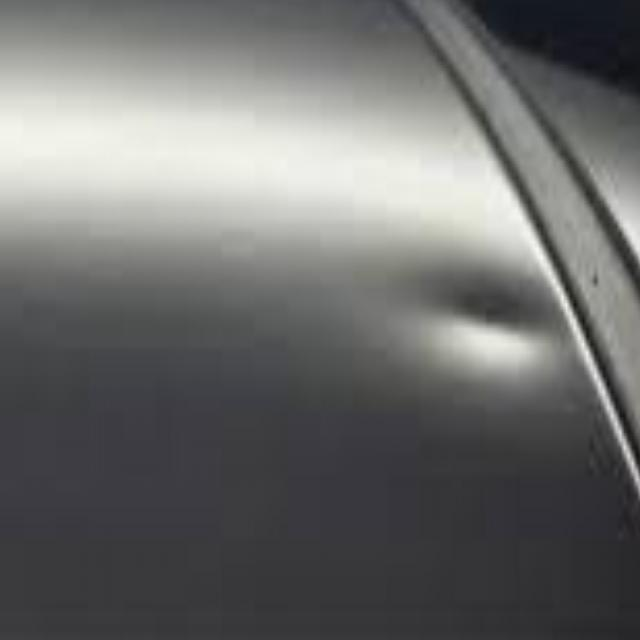dents: (402, 214, 577, 418)
